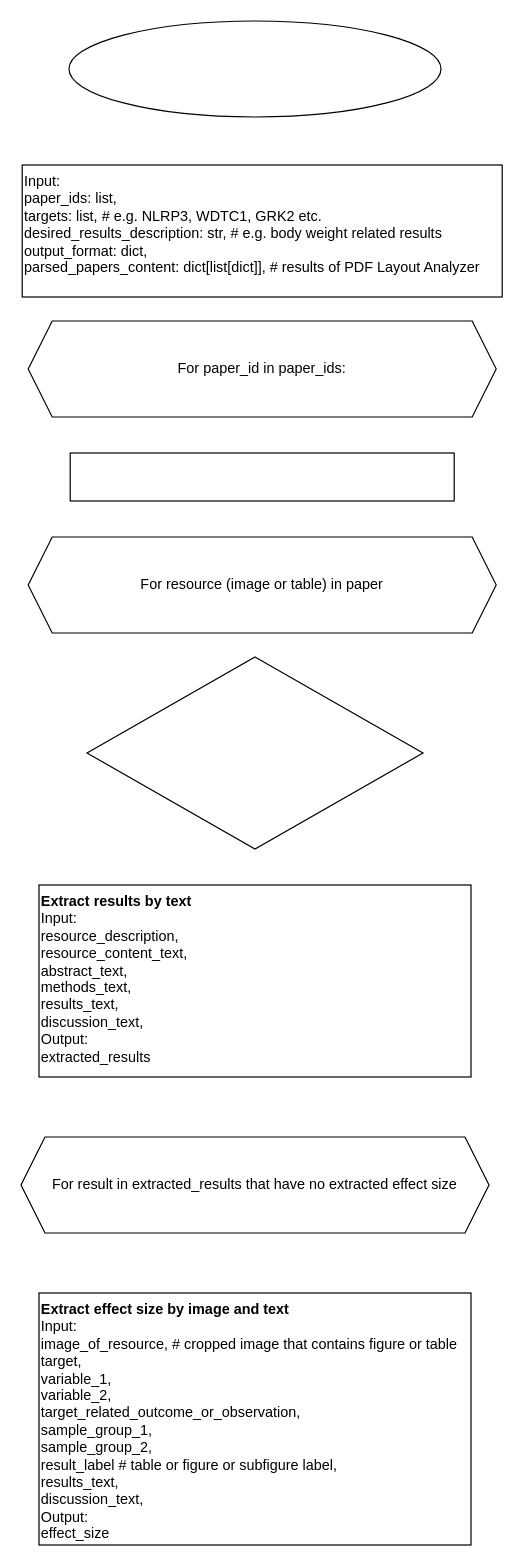
Some shapes in this 523 by 1566 pixel diagram are drawn without their labels. The centre of each missing label's shape, as x and y in pixels:
"Create structured representation of the paper" belongs at [261,476].
"Experiment-Result-Extractor" belongs at [254,68].
"Filtering resource Is resource contains desired results that related to target?" belongs at [254,752].
